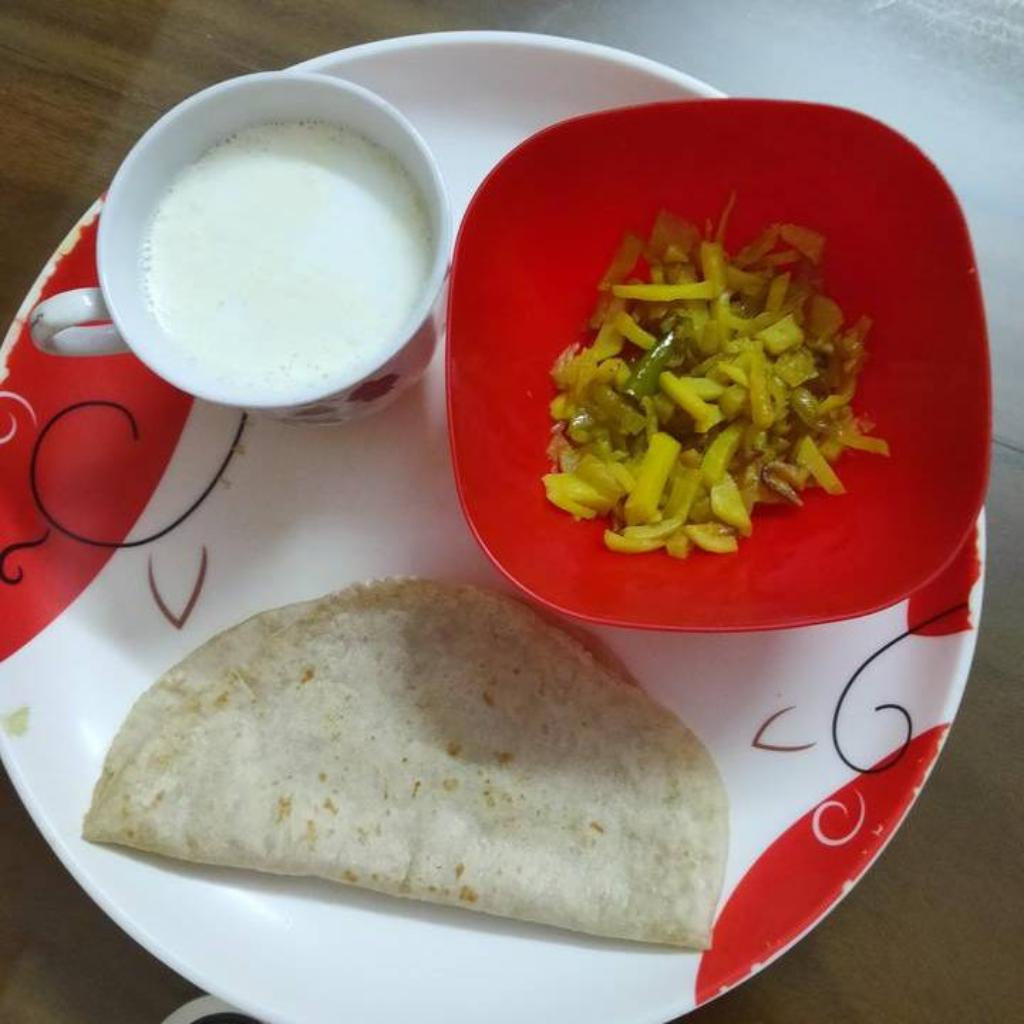milk: (136, 124, 431, 400)
ruti: (89, 575, 730, 959)
vaji: (533, 238, 887, 550)
